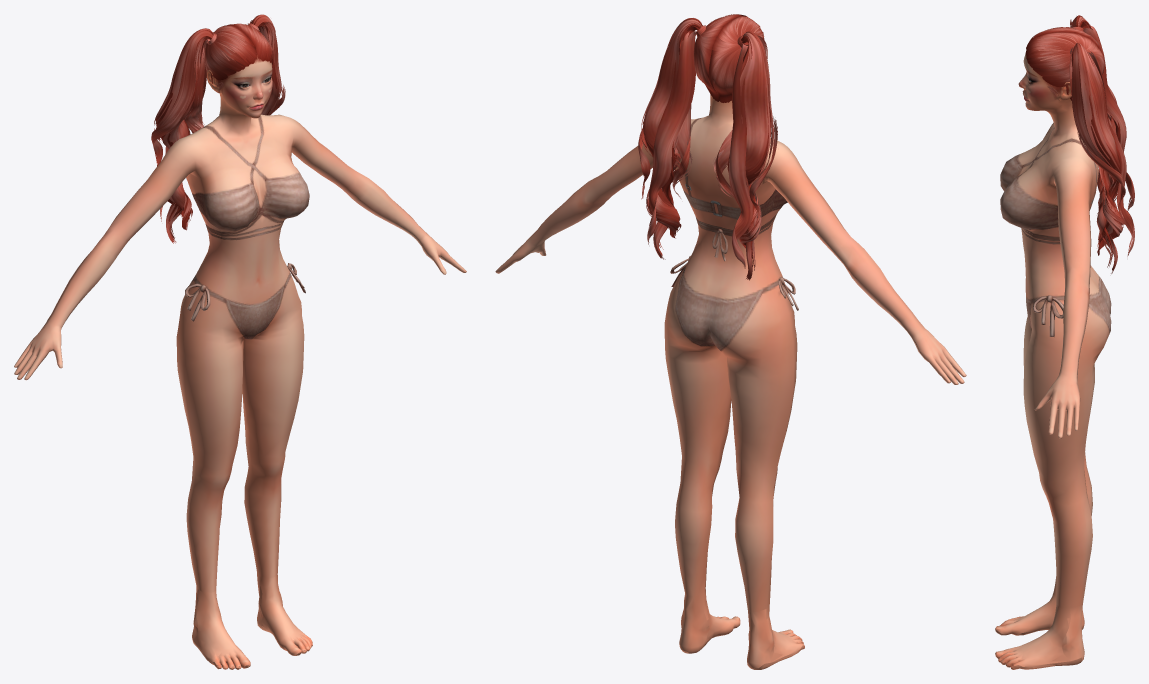
Rendered from VeiDo3.fbx.
3 views of the same model, side by side, from view 1: azimuth 30°, elevation 25°; view 2: azimuth 150°, elevation 25°; view 3: azimuth 270°, elevation 25° (orthographic). The views are drawn at different scales.
Parts seen in each view (by area): view 1: VeiDo; view 2: VeiDo; view 3: VeiDo.
Part boxes in pixels (box(x1,y1,x2,y2)): VeiDo: box(14, 14, 466, 669); VeiDo: box(495, 14, 966, 669); VeiDo: box(995, 15, 1134, 669).
Bounding box in the file's own units: 142 × 186 × 38.09.
1 material, 1 textured.
